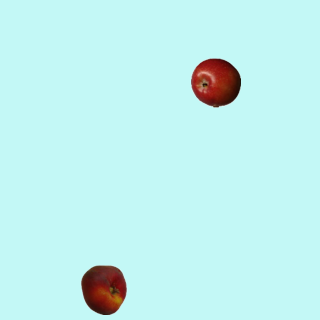Apple Braeburn: (190, 57, 240, 107)
Nectarine Flat: (78, 264, 128, 314)
